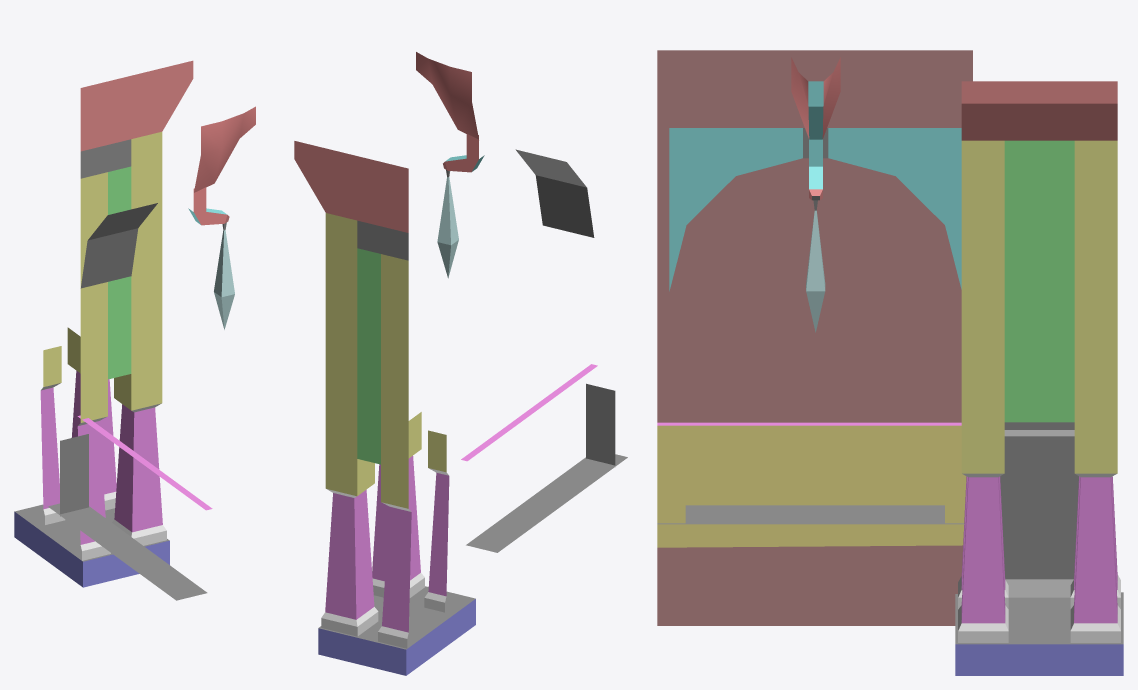
The model's file is SSQ_dungeon_S__SSQ_Room02_wall02.gltf.
3 renders of one model, left to right at view 1: azimuth 30°, elevation 25°; view 2: azimuth 150°, elevation 25°; view 3: azimuth 270°, elevation 25°, orthographic. The views are drawn at different scales.
Visible parts, largest first — view 1: SSQ_Room02_wall02; view 2: SSQ_Room02_wall02; view 3: SSQ_Room02_wall02.
Part boxes in pixels (box(x1,y1,x2,y2)): SSQ_Room02_wall02: box(14, 60, 255, 600); SSQ_Room02_wall02: box(294, 52, 627, 675); SSQ_Room02_wall02: box(657, 50, 1123, 675).
Bounding box in the file's own units: 1.14 × 3.84 × 2.66.
